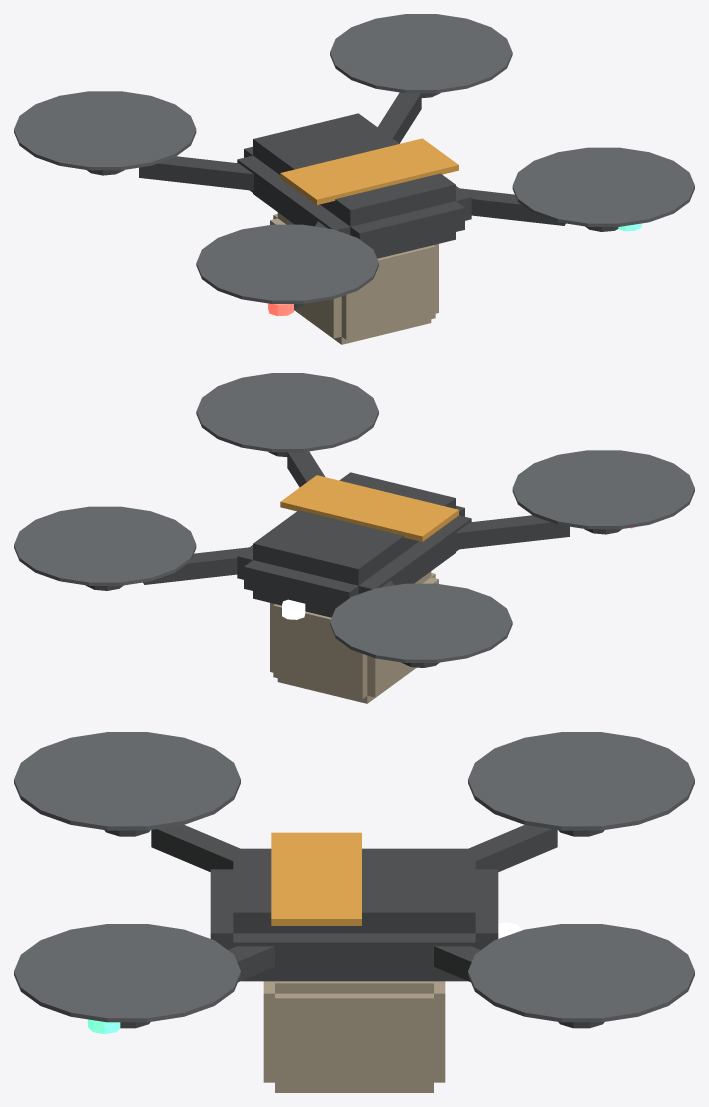
Rendered from drone103.glb.
3 views of the same model, one above another, from view 1: azimuth 30°, elevation 25°; view 2: azimuth 150°, elevation 25°; view 3: azimuth 270°, elevation 25° (orthographic). The views are drawn at different scales.
Visible parts, largest first — view 1: d103-body, d103-rotor.003, d103-rotor, d103-rotor.002, d103-rotor.001, d103-cargo, d103-stripe, d103-arm.001, d103-arm.002, d103-arm.003; view 2: d103-body, d103-rotor.002, d103-rotor.001, d103-rotor.003, d103-rotor, d103-cargo, d103-stripe, d103-arm, d103-arm.003, d103-arm.002; view 3: d103-body, d103-cargo, d103-rotor, d103-rotor.001, d103-rotor.002, d103-rotor.003, d103-stripe, d103-arm, d103-arm.001, d103-arm.002, d103-arm.003.
Boxes of the visible parts, x1,y1,x2,y2 form: d103-body: (237,113,471,258); d103-rotor.003: (330,14,512,93); d103-rotor: (196,224,378,303); d103-rotor.002: (512,147,694,226); d103-rotor.001: (14,91,196,170); d103-cargo: (270,212,438,344); d103-stripe: (280,138,458,204); d103-arm.001: (139,156,253,190); d103-arm.002: (460,188,565,225); d103-arm.003: (378,92,421,143); d103-body: (237,472,471,617); d103-rotor.002: (196,373,378,452); d103-rotor.001: (330,583,512,662); d103-rotor.003: (14,506,196,585); d103-rotor: (512,450,694,529); d103-cargo: (270,571,438,703); d103-stripe: (280,475,458,541); d103-arm: (455,515,569,549); d103-arm.003: (143,547,248,584); d103-arm.002: (287,451,325,487); d103-body: (210,848,498,981); d103-cargo: (263,981,445,1092); d103-rotor: (14,732,240,830); d103-rotor.001: (468,732,694,830); d103-rotor.002: (14,924,240,1022); d103-rotor.003: (468,924,694,1022); d103-stripe: (271,832,361,925); d103-arm: (151,825,239,871); d103-arm.001: (469,825,557,871); d103-arm.002: (228,946,274,982); d103-arm.003: (434,946,480,982).
Bounding box in the file's own units: 0.8954 × 0.278 × 0.9.
